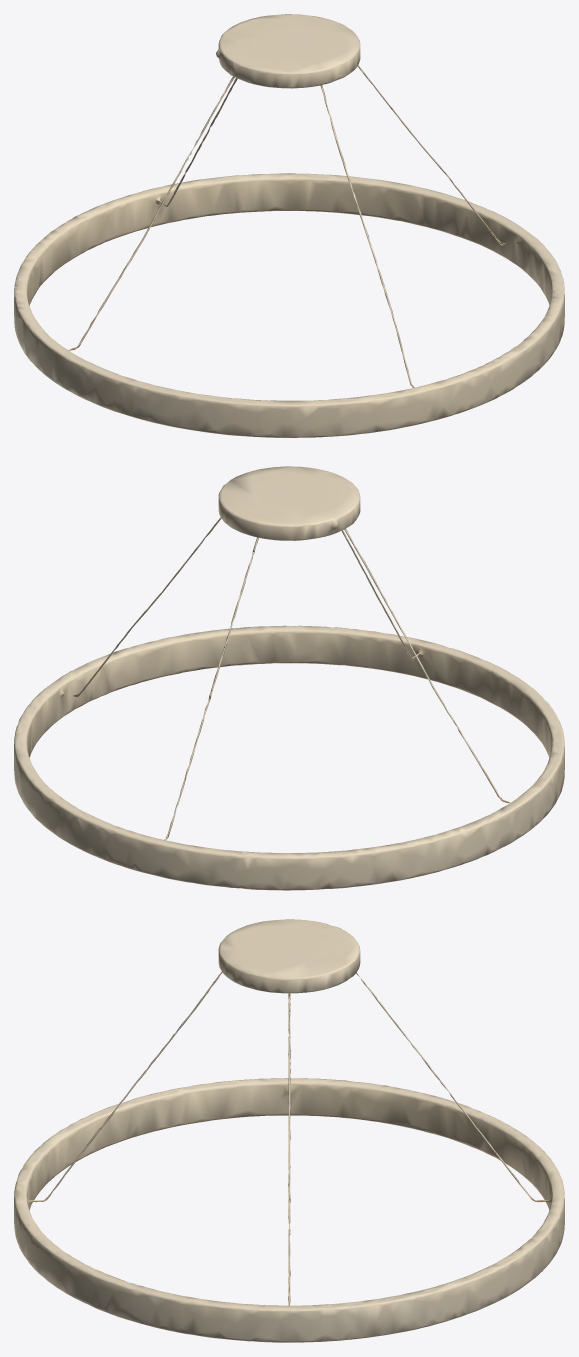
The model's file is koridorlamba.fbx.
The picture shows the model from 3 angles, top to bottom: view 1: azimuth 30°, elevation 25°; view 2: azimuth 150°, elevation 25°; view 3: azimuth 270°, elevation 25°; orthographic projection.
Parts seen in each view (by area): view 1: Mesh_0; view 2: Mesh_0; view 3: Mesh_0.
Part boxes in pixels (bbox=[...]): Mesh_0: bbox=[14, 14, 564, 437]; Mesh_0: bbox=[14, 466, 564, 890]; Mesh_0: bbox=[14, 919, 564, 1342].
Size of the model in its own units: 191 by 107 by 191.
Materials: 1 (1 with a texture image).
